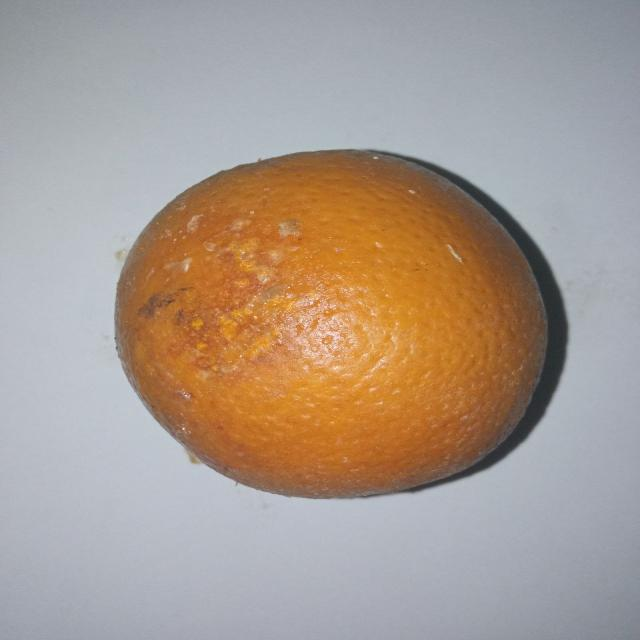rotten_orange: (111, 150, 545, 498)
